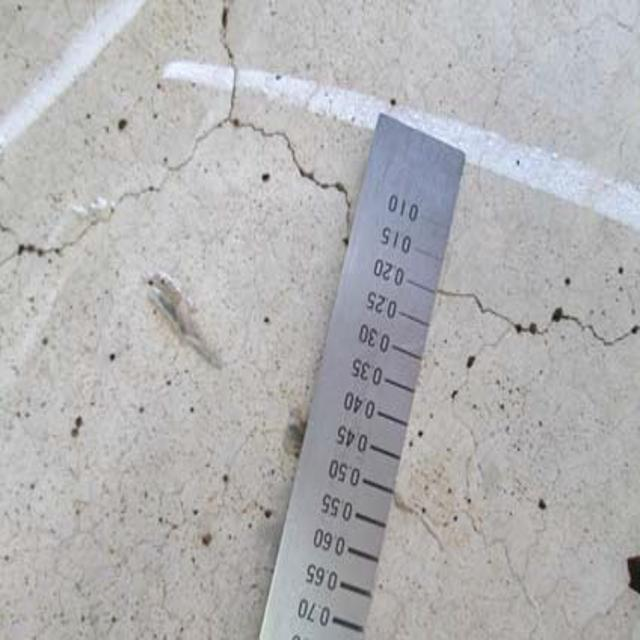crack: (3, 4, 356, 269), (435, 269, 640, 364)
